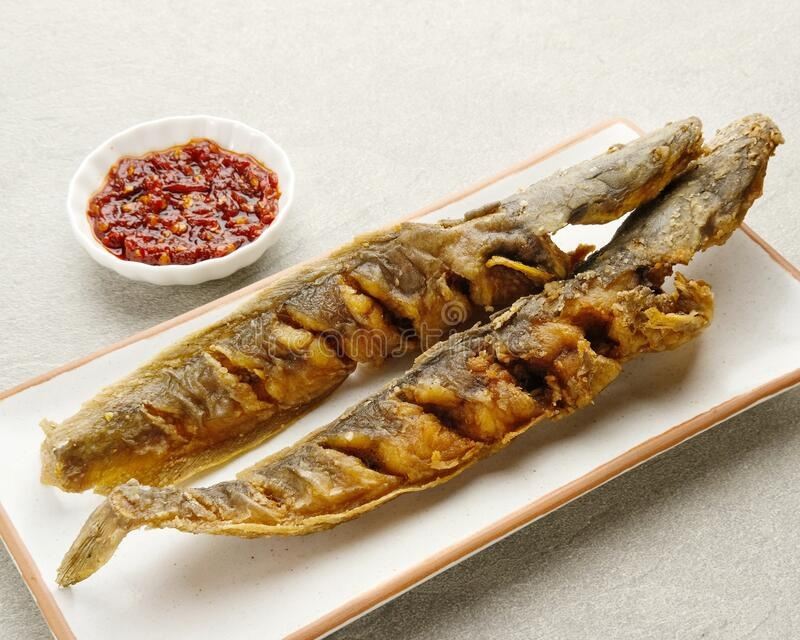pecel_lele: (283, 106, 687, 458)
